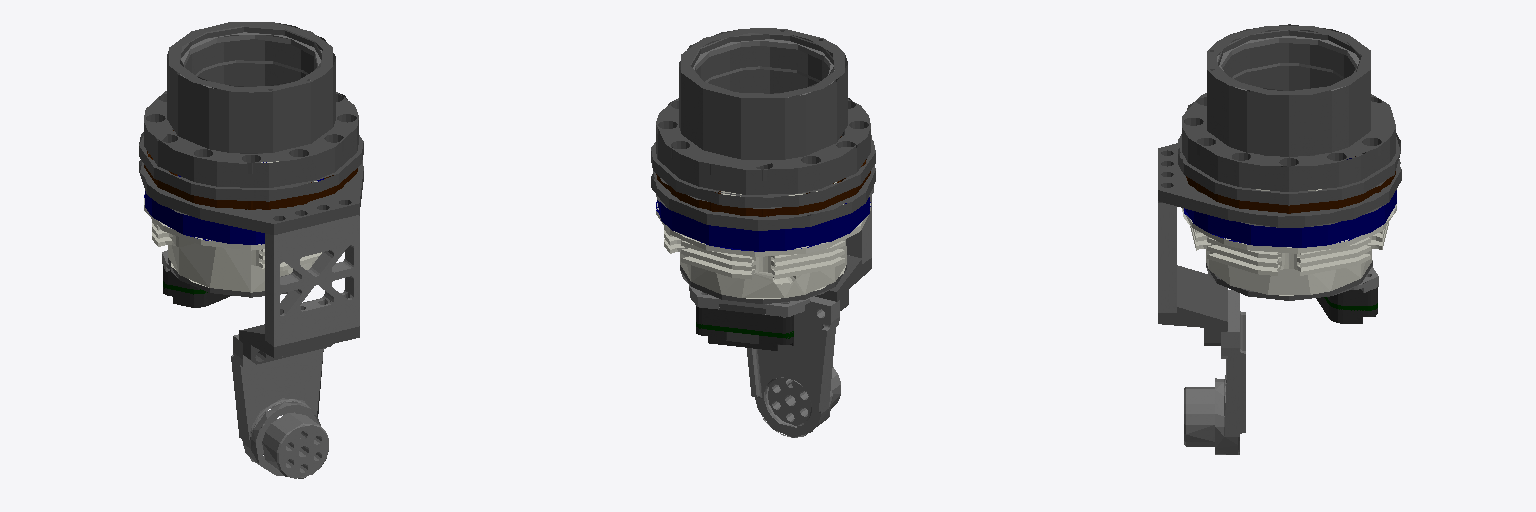
3 views of the same model, side by side, from view 1: azimuth 30°, elevation 25°; view 2: azimuth 150°, elevation 25°; view 3: azimuth 270°, elevation 25° (orthographic).
Bounding box in the file's own units: 0.073 × 0.1401 × 0.079.
1 materials, 1 textured.